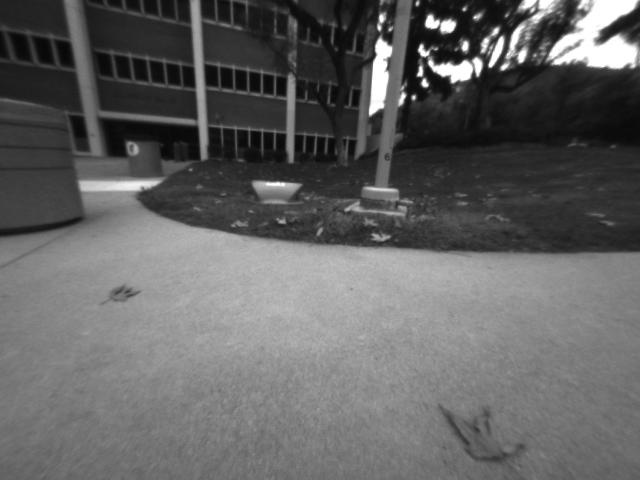trashcan: (126, 136, 163, 178)
